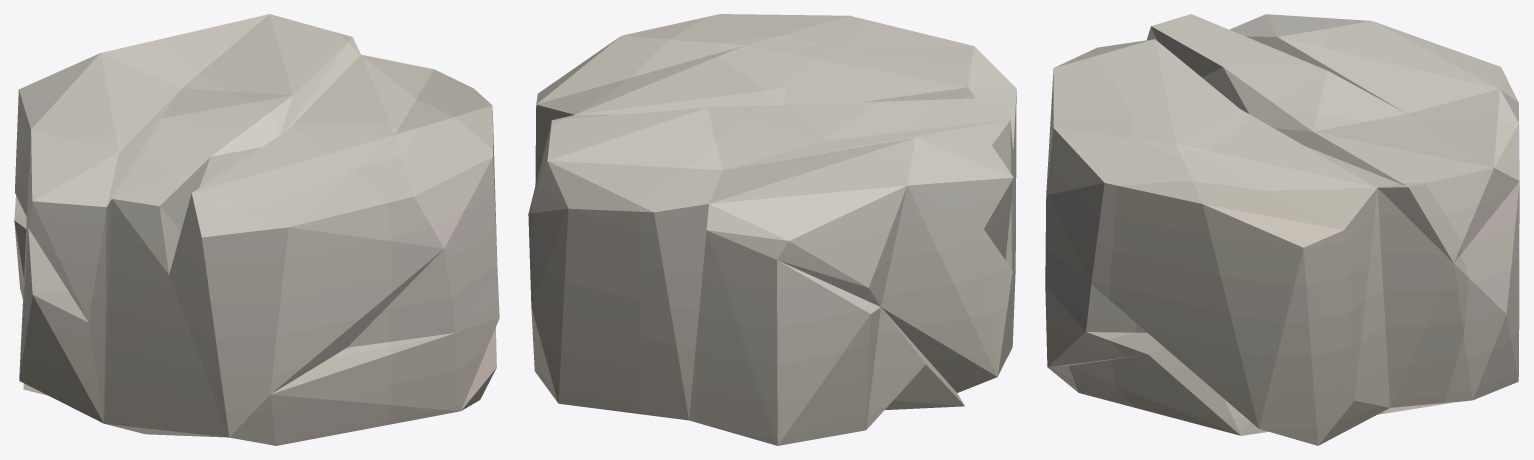
Rendered from 3D_PillarsCircle1.fbx.
The picture shows the model from 3 angles, left to right: view 1: azimuth 30°, elevation 25°; view 2: azimuth 150°, elevation 25°; view 3: azimuth 270°, elevation 25°; orthographic projection. The views are drawn at different scales.
Visible parts, largest first — view 1: PillarsCircle1; view 2: PillarsCircle1; view 3: PillarsCircle1.
Part boxes in pixels (x1,y1,x2,y2): PillarsCircle1: (14, 14, 499, 445); PillarsCircle1: (528, 14, 1016, 445); PillarsCircle1: (1045, 14, 1519, 445).
Size of the model in its own units: 57.22 by 29.76 by 52.05.
